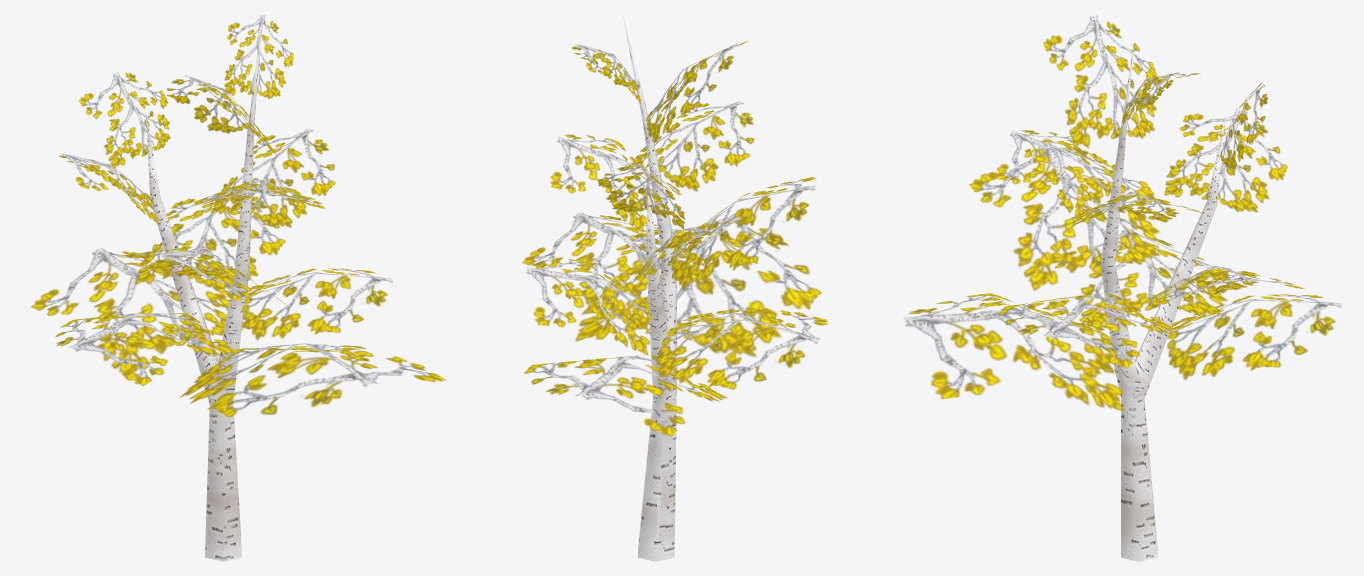
3 renders of one model, left to right at view 1: azimuth 30°, elevation 25°; view 2: azimuth 150°, elevation 25°; view 3: azimuth 270°, elevation 25°, orthographic.
Parts seen in each view (by area): view 1: branches, trunk; view 2: branches, trunk; view 3: branches, trunk.
Boxes of the visible parts, x1,y1,x2,y2 form: branches: (31,14,446,417); trunk: (145,20,261,561); branches: (521,41,828,436); trunk: (623,16,677,561); branches: (902,15,1341,411); trunk: (1100,44,1225,561).
Bounding box in the file's own units: 203 × 315 × 252.
2 materials, 2 textured.
